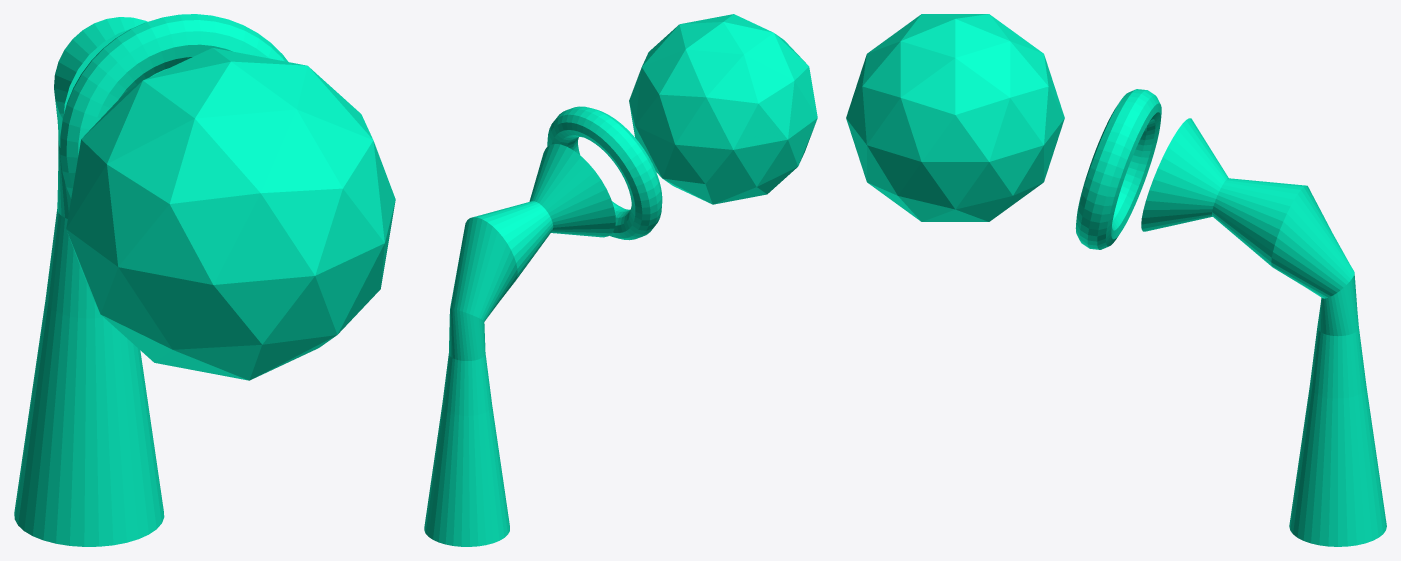
File: shild tree.fbx
3 renders of one model, left to right at view 1: azimuth 30°, elevation 25°; view 2: azimuth 150°, elevation 25°; view 3: azimuth 270°, elevation 25°, orthographic. The views are drawn at different scales.
Parts seen in each view (by area): view 1: Cylinder; view 2: Cylinder; view 3: Cylinder.
Boxes of the visible parts, x1,y1,x2,y2 form: Cylinder: (14,14,395,546); Cylinder: (424,14,817,546); Cylinder: (846,14,1386,546).
Size of the model in its own units: 1369 by 2592 by 2768.
